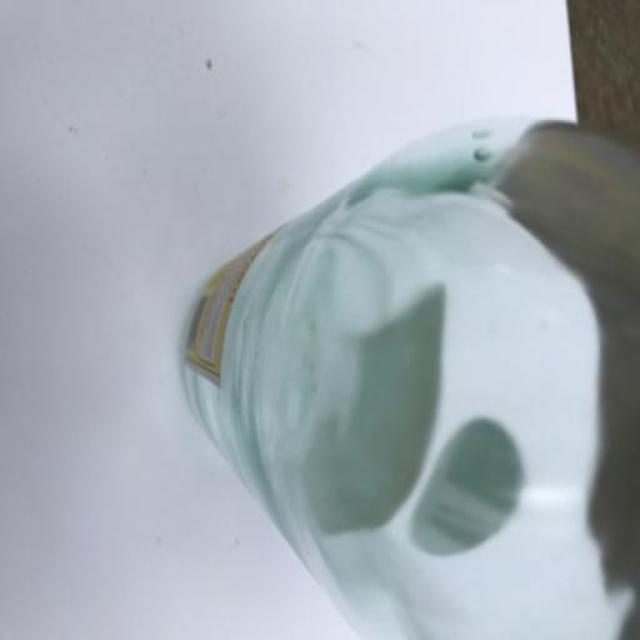glass: (180, 117, 640, 640)
